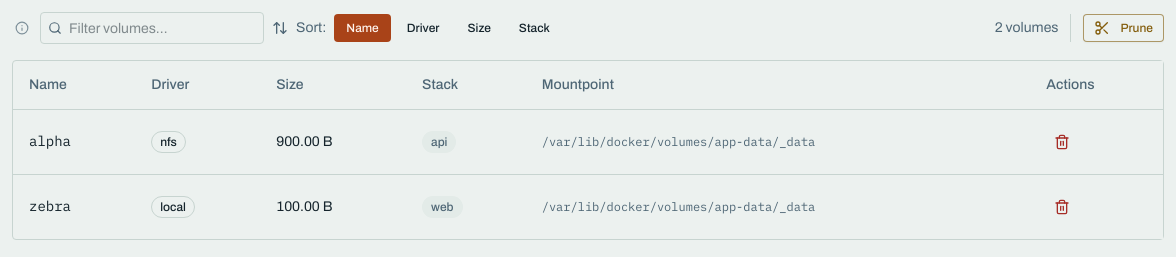
it: VolumesTab — filtering and sorting › filters on the driver and on the owning stack
Step 1. Type "nfs" into the field with placeholder "Filter volumes…" → [152, 28], box [40,12,264,44]
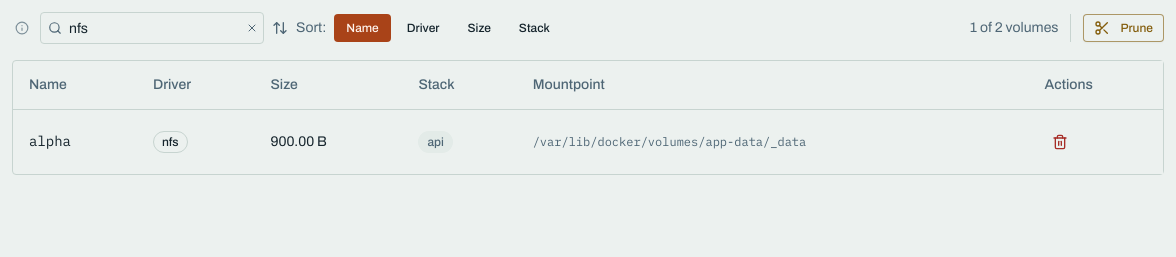
Check: the text "alpha" is shown, box [29,132,71,150]
Step 2. Replace the text in the field with placeholder "Filter volumes…" with "web" → [152, 28], box [40,12,264,44]
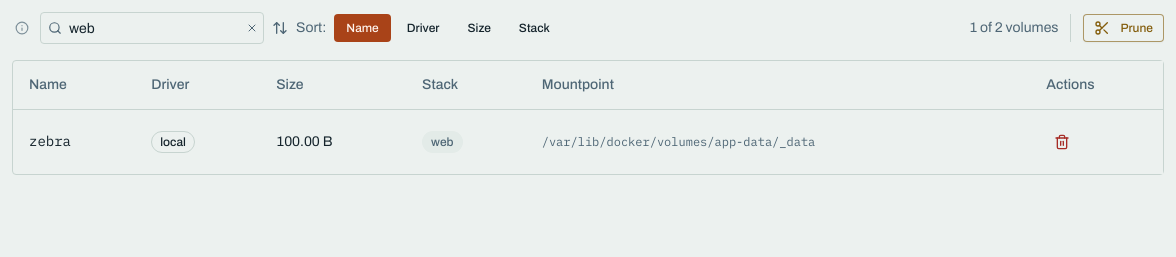
Check: the text "zebra" is shown, box [29,132,71,150]
Check: the text "alpha" is gone
